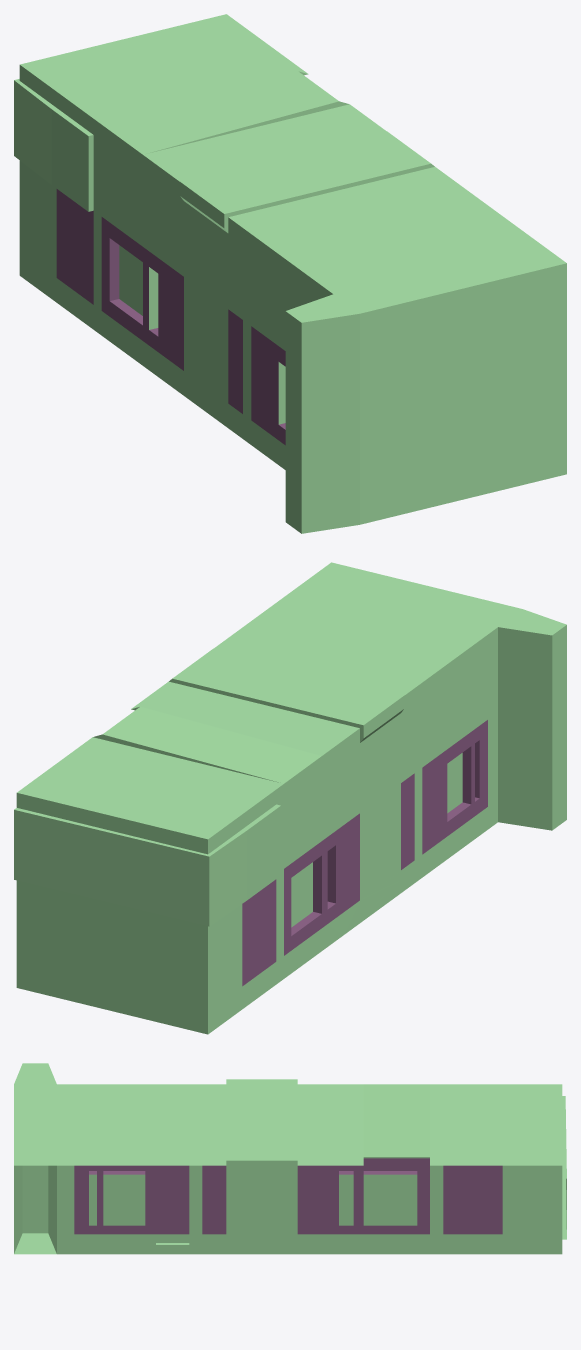
Rendered from wall2.glb.
3 views of the same model, one above another, from view 1: azimuth 30°, elevation 25°; view 2: azimuth 150°, elevation 25°; view 3: azimuth 270°, elevation 25° (orthographic). The views are drawn at different scales.
Visible parts, largest first — view 1: Cube.001; view 2: Cube.001; view 3: Cube.001.
Boxes of the visible parts, x1,y1,x2,y2 form: Cube.001: (14,14,566,533); Cube.001: (14,562,566,1034); Cube.001: (14,1063,566,1254).
Bounding box in the file's own units: 25.14 × 20.01 × 57.47.
